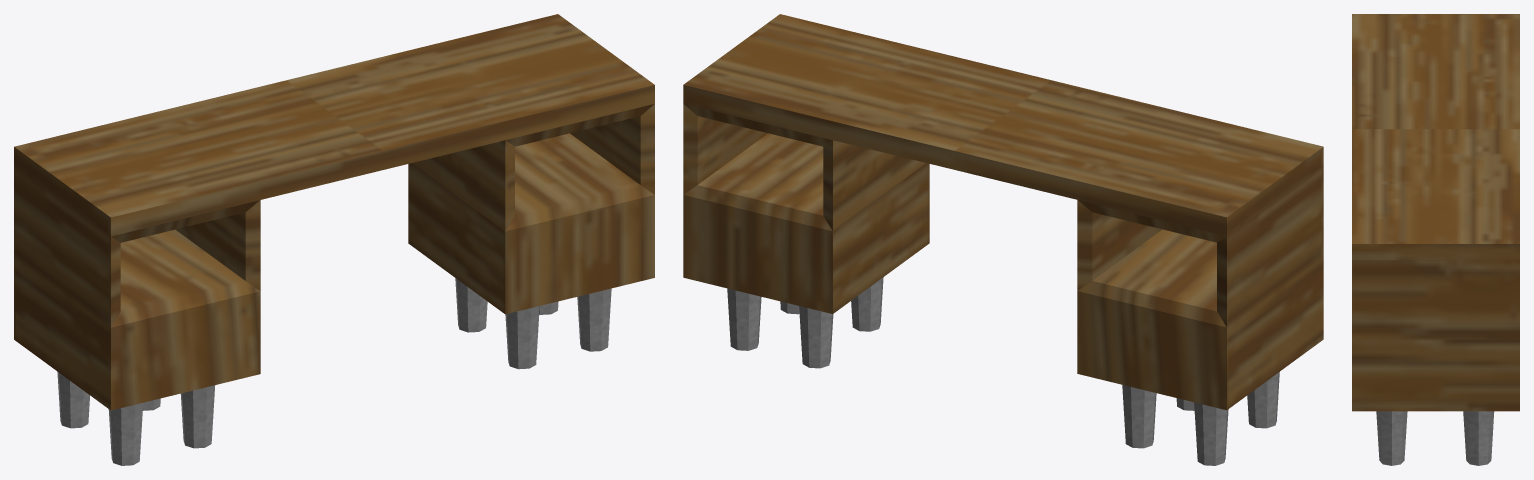
The model's file is MKU_desk_fin.fbx.
3 views of the same model, side by side, from view 1: azimuth 30°, elevation 25°; view 2: azimuth 150°, elevation 25°; view 3: azimuth 270°, elevation 25° (orthographic). The views are drawn at different scales.
Visible parts, largest first — view 1: desk; view 2: desk; view 3: desk.
Boxes of the visible parts, left/top/right/bottom form: desk: left=14, top=14, right=654, bottom=465; desk: left=683, top=14, right=1323, bottom=465; desk: left=1352, top=14, right=1519, bottom=465.
Size of the model in its own units: 557 by 263 by 172.
